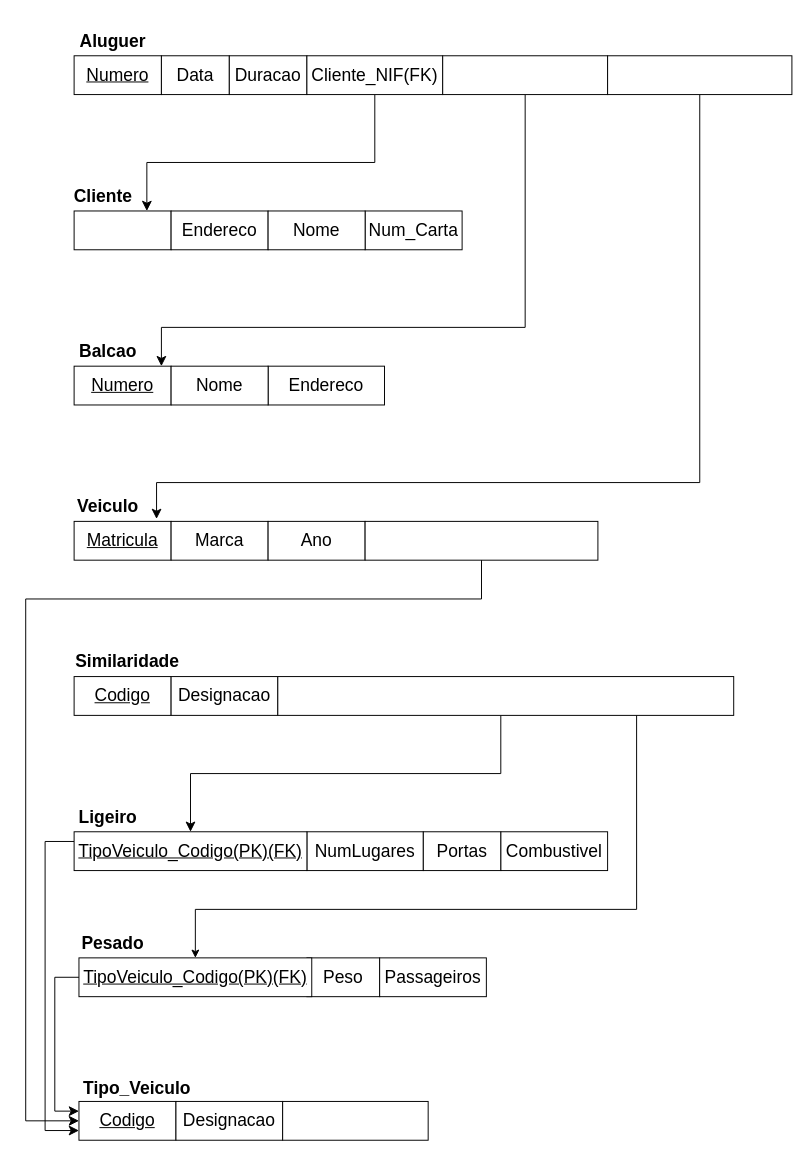
Some shapes in this 809 by 1157 pixel diagram are drawn without their labels. The shapes that lost their labels are listed below. From the top down, each one's centre as x and y in pixels, then its label:
At (x=525, y=75): "Balcao_Numero(FK)".
At (x=699, y=75): "Veiculo_Matricula(FK)".
At (x=122, y=230): "NIF".
At (x=481, y=540): "TipoVeiculo_Codigo(FK)".
At (x=505, y=695): "TipoVeiculo_Codigo1(FK1) + TipoVeiculo_Codigo2(FK2)".
At (x=355, y=1120): "Ar_Condicionado".
